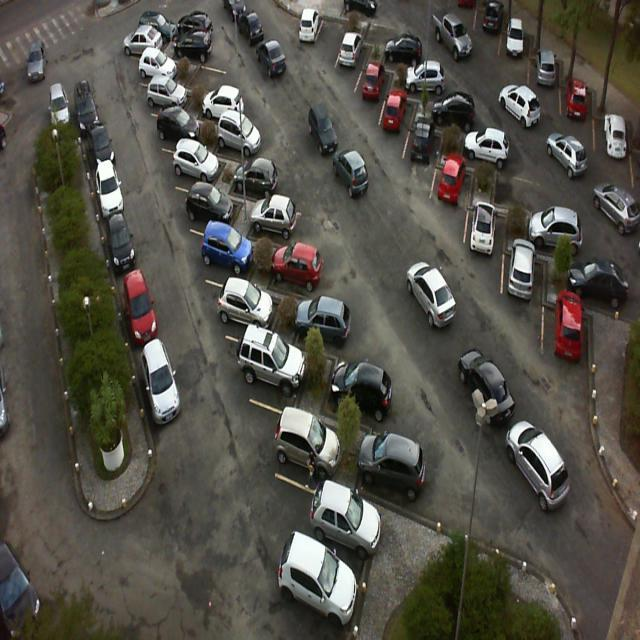space-empty: (496, 165, 552, 214), (315, 9, 352, 68), (366, 11, 411, 48), (192, 58, 237, 94)
space-occupied: (304, 468, 388, 582), (271, 390, 348, 479), (317, 353, 388, 431), (365, 425, 432, 507), (245, 326, 312, 406), (223, 270, 286, 343), (302, 288, 362, 358), (272, 235, 337, 297), (570, 260, 630, 322), (542, 303, 591, 374), (204, 224, 262, 281), (254, 192, 315, 246), (192, 176, 248, 234), (237, 148, 295, 200), (533, 205, 585, 263), (468, 198, 507, 272), (503, 241, 543, 312), (202, 78, 258, 127), (171, 139, 224, 188), (431, 163, 472, 225), (400, 122, 442, 182), (158, 101, 207, 151), (464, 124, 514, 170), (380, 92, 416, 152), (222, 117, 272, 160), (410, 61, 458, 104), (354, 63, 392, 116), (335, 40, 372, 94), (151, 75, 197, 116), (561, 75, 590, 136), (139, 46, 182, 87), (434, 94, 478, 134), (175, 31, 220, 68), (500, 30, 532, 79), (529, 50, 560, 100), (389, 38, 428, 74)
